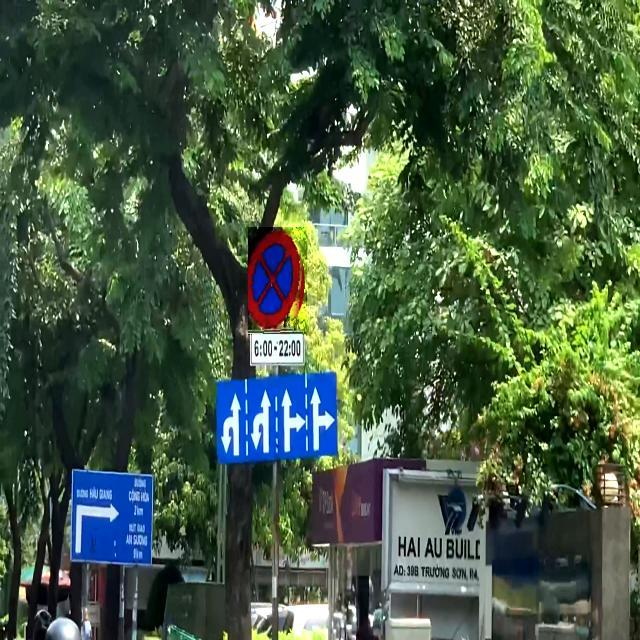P-130: (248, 227, 307, 335)
